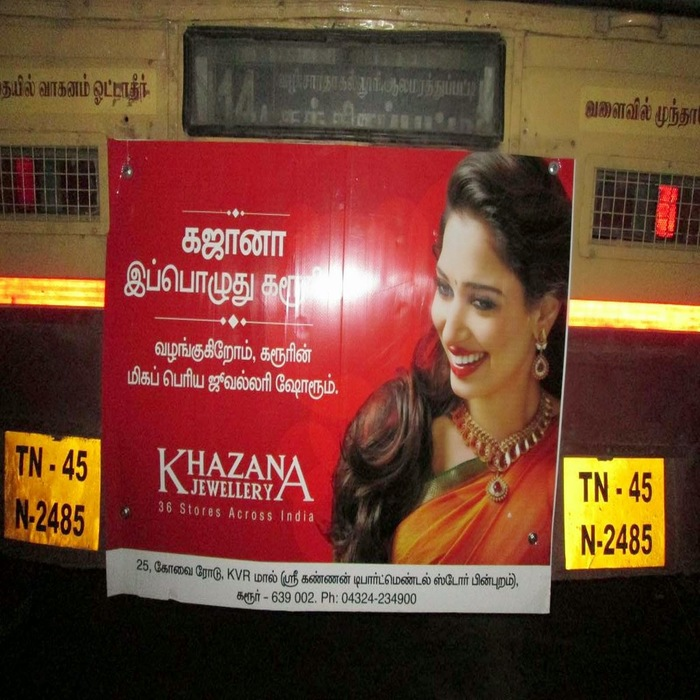n: (1, 421, 102, 556), (555, 456, 674, 570)
